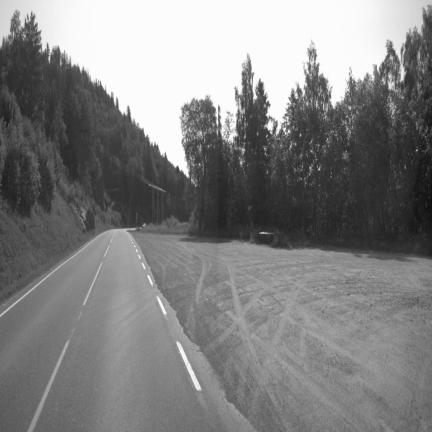Road: (0, 230, 249, 430)
